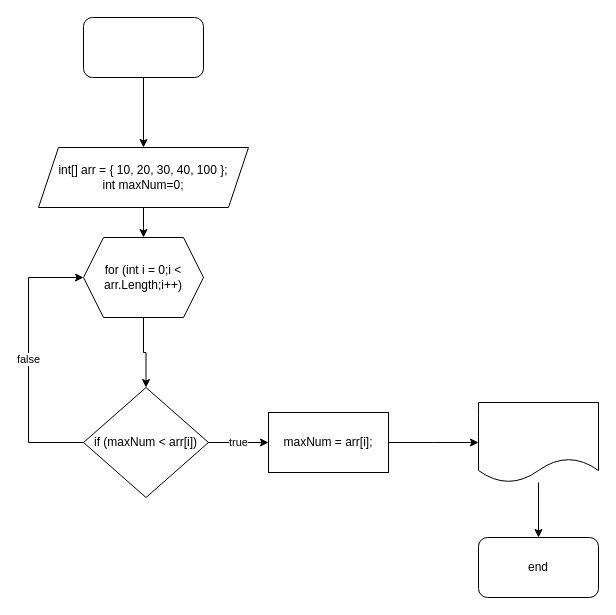
Image size: 616x615. Some labels were removed from this diagram. Here are the shapes that lost their labels. From the top down, the centre of each, then its label:
At [143,47]: "start".
At [538,442]: "max Num".
